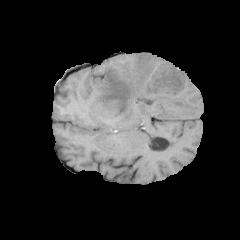glioma: (96, 53, 198, 122)
